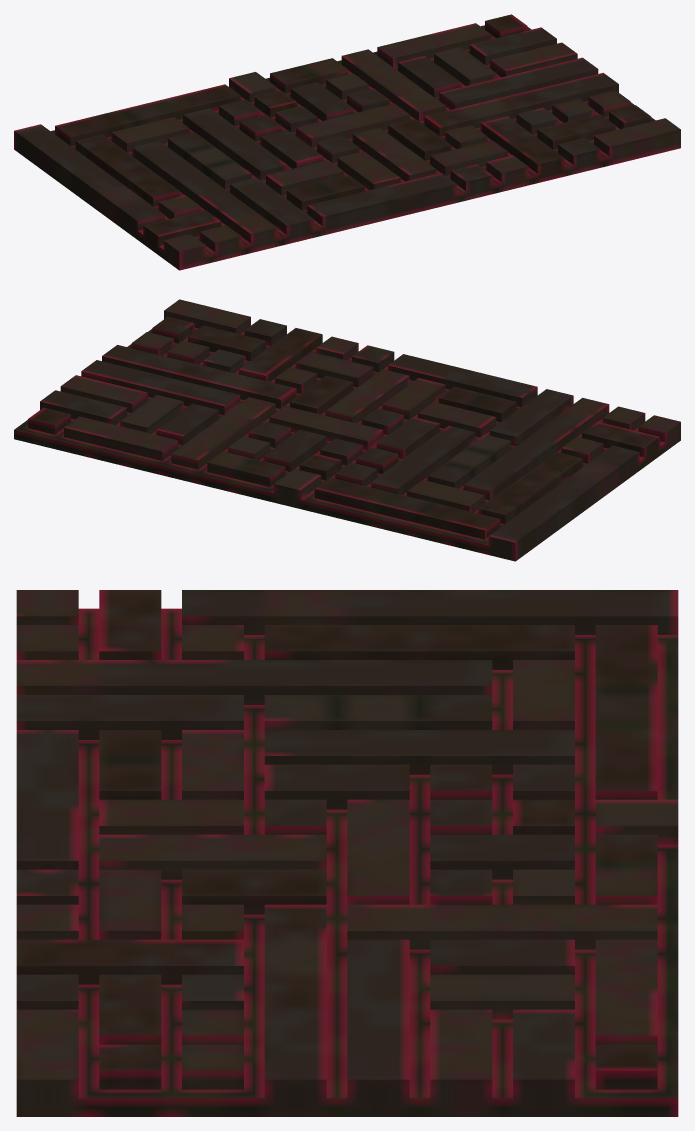
The model's file is Floor.obj.
3 renders of one model, top to bottom at view 1: azimuth 30°, elevation 25°; view 2: azimuth 150°, elevation 25°; view 3: azimuth 270°, elevation 25°, orthographic. The views are drawn at different scales.
Visible parts, largest first — view 1: Floor; view 2: Floor; view 3: Floor.
Boxes of the visible parts, box(x1,y1,x2,y2) form: Floor: box(14, 14, 680, 270); Floor: box(14, 299, 680, 561); Floor: box(16, 590, 678, 1116).
Bounding box in the file's own units: 5.6 × 0.2 × 3.2.
Materials: 1 (1 with a texture image).
